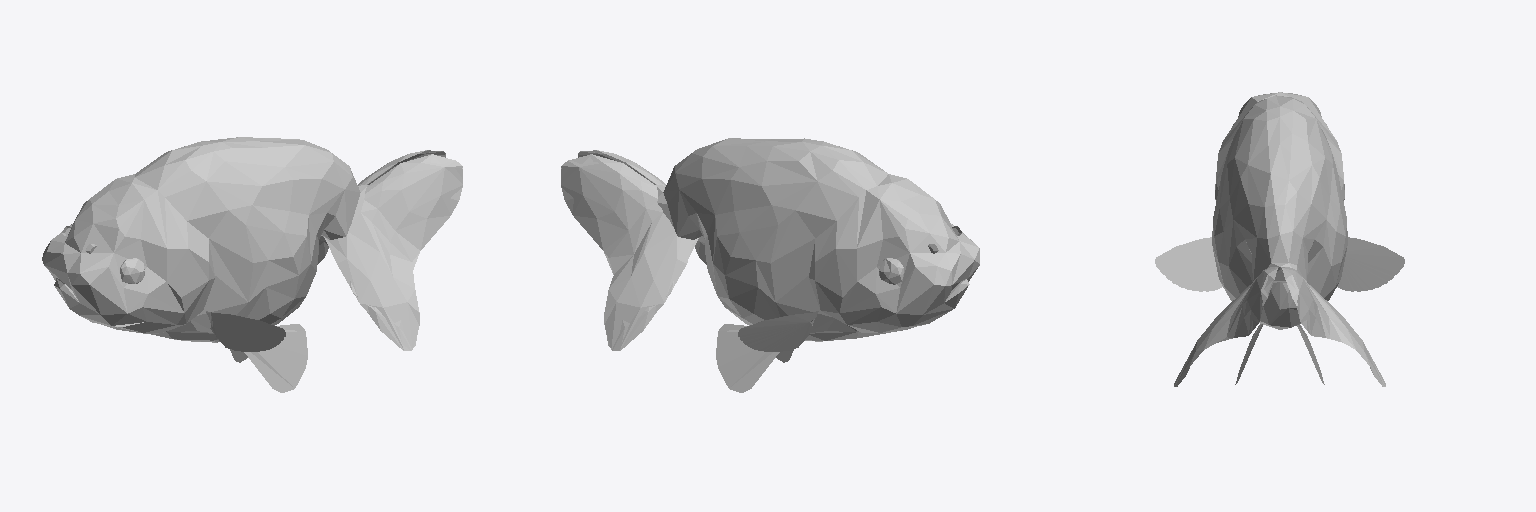
Rendered from Goldfish.obj.
3 views of the same model, side by side, from view 1: azimuth 30°, elevation 25°; view 2: azimuth 150°, elevation 25°; view 3: azimuth 270°, elevation 25° (orthographic).
Parts seen in each view (by area): view 1: object, object8, object4, object2, object9, object10; view 2: object, object9, object5, object3, object8, object11; view 3: object, object8, object9, object3, object2.
Part boxes in pixels (x1,y1,x2,y2): object: (42,137,367,342); object8: (324,154,462,350); object4: (244,324,307,392); object2: (206,311,285,351); object9: (317,150,445,264); object10: (120,258,144,283); object: (656,138,979,341); object9: (561,154,698,350); object5: (716,324,779,392); object3: (738,311,818,351); object8: (578,150,706,264); object11: (879,258,903,284); object: (1212,92,1347,329); object8: (1174,267,1278,386); object9: (1281,267,1385,386); object3: (1337,237,1404,291); object2: (1155,237,1222,291).
Size of the model in its own units: 398 by 236 by 217.